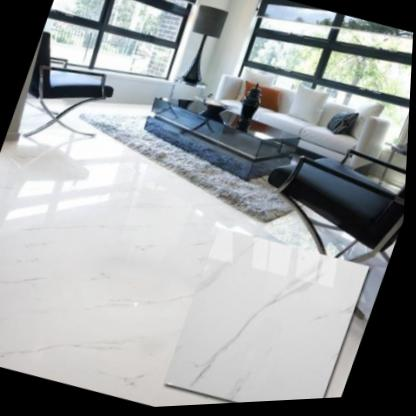Carpet: (78, 104, 296, 226)
Ceramic floor: (0, 105, 371, 409)
